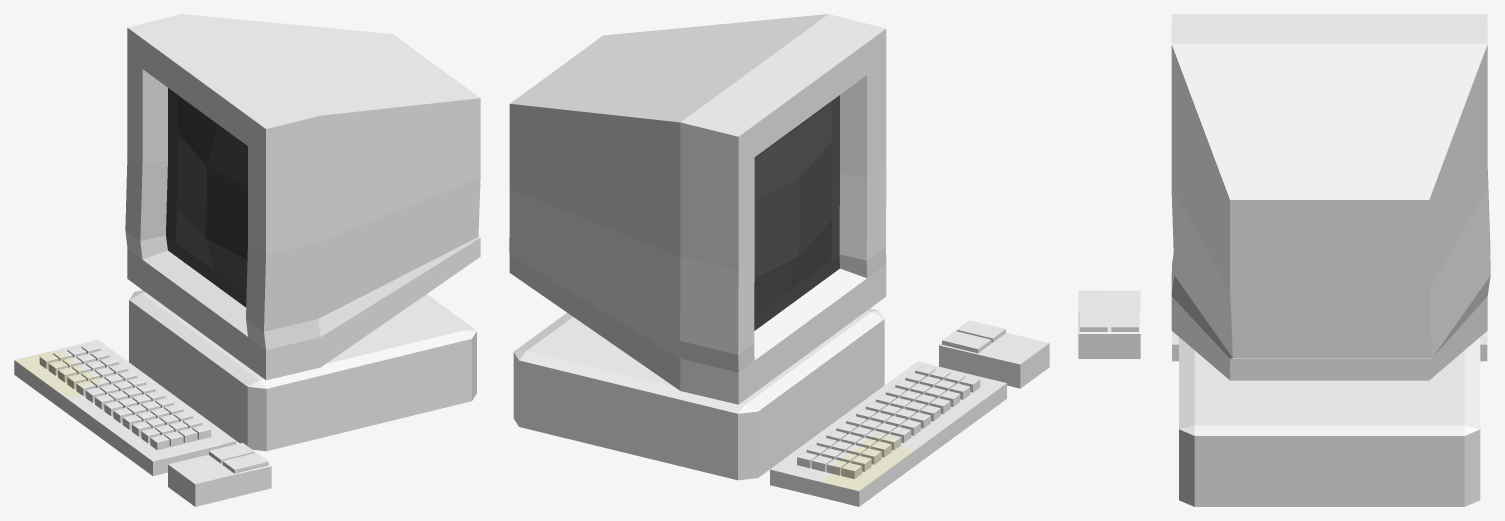
File: Ordinateur.fbx
3 views of the same model, side by side, from view 1: azimuth 30°, elevation 25°; view 2: azimuth 150°, elevation 25°; view 3: azimuth 270°, elevation 25° (orthographic). The views are drawn at different scales.
Visible parts, largest first — view 1: Cube.002; view 2: Cube.002; view 3: Cube.002.
Boxes of the visible parts, <box> form: Cube.002: <box>14,14,480,506</box>; Cube.002: <box>509,14,1049,506</box>; Cube.002: <box>1078,14,1490,506</box>.
Size of the model in its own units: 294 by 262 by 261.
